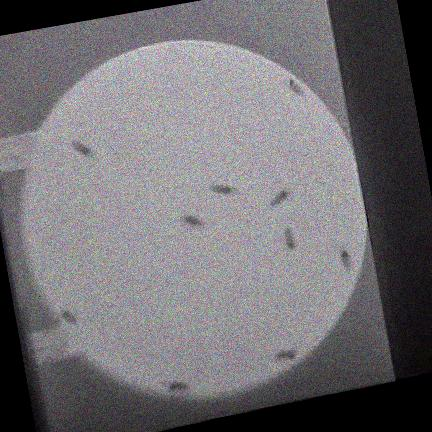fly: (71, 141, 96, 158), (181, 214, 206, 228), (285, 78, 304, 96), (271, 188, 290, 206), (163, 381, 189, 393), (211, 184, 238, 195), (275, 349, 297, 362), (284, 227, 296, 249), (341, 248, 352, 270), (60, 310, 77, 324)
